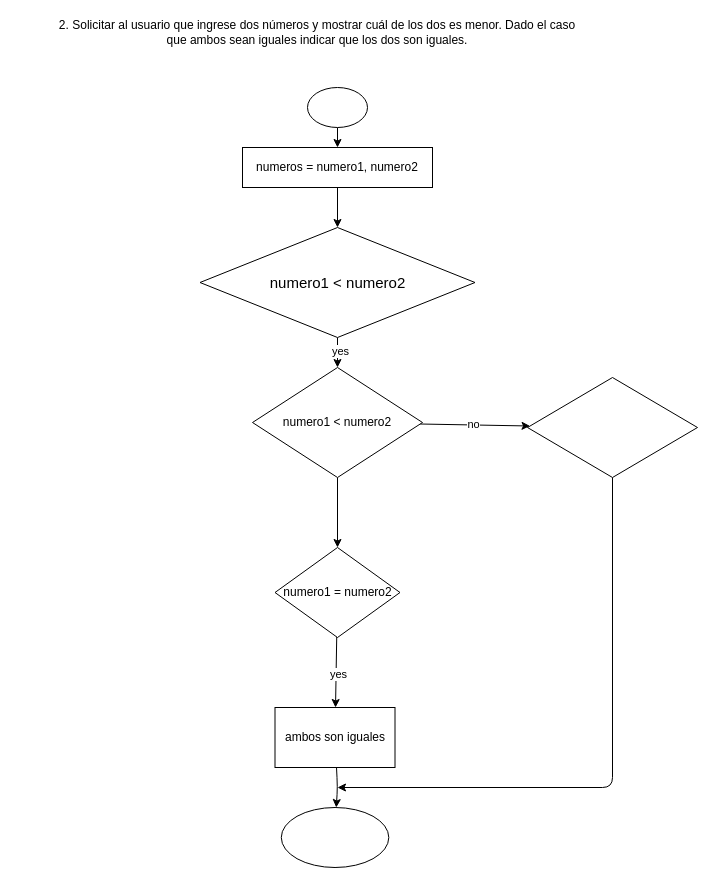
This 715x885 diagram has some shape labels left out. The centre of each missing label's shape, as x and y in pixels:
fin: the point at 334,837
inicio: the point at 337,107
numero1 > numero2: the point at 612,427
